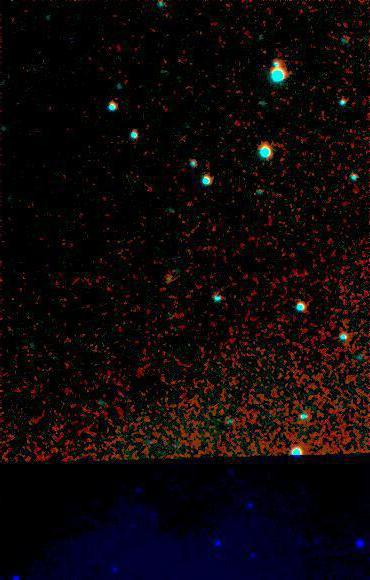star: (253, 78, 283, 108)
